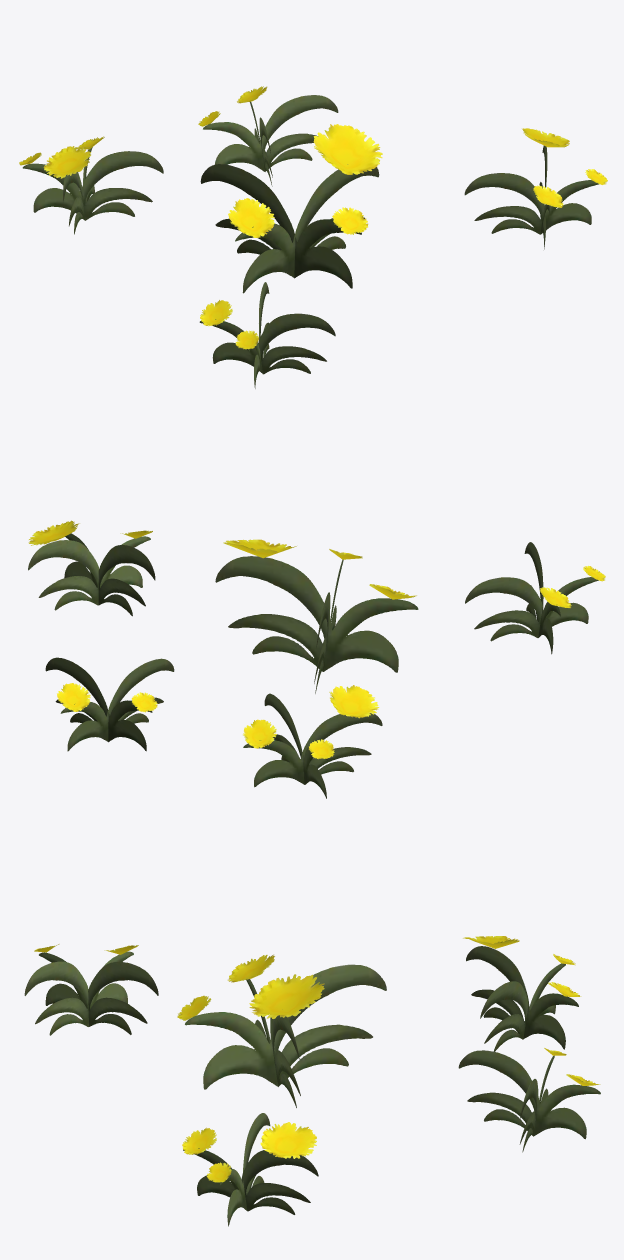
3 views of the same model, one above another, from view 1: azimuth 30°, elevation 25°; view 2: azimuth 150°, elevation 25°; view 3: azimuth 270°, elevation 25° (orthographic). The views are drawn at different scales.
Parts seen in each view (by area): view 1: body0_model0_lod0_mesh0; view 2: body0_model0_lod0_mesh0; view 3: body0_model0_lod0_mesh0.
Boxes of the visible parts, x1,y1,x2,y2 form: body0_model0_lod0_mesh0: (19,86,607,388); body0_model0_lod0_mesh0: (28,520,605,798); body0_model0_lod0_mesh0: (24,936,600,1226).
Size of the model in its own units: 57.29 by 23.67 by 59.31.
1 material, 1 textured.
